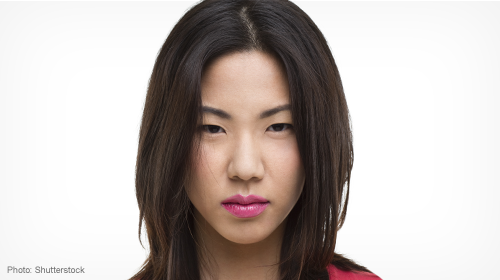NoMask: (189, 97, 297, 242)
